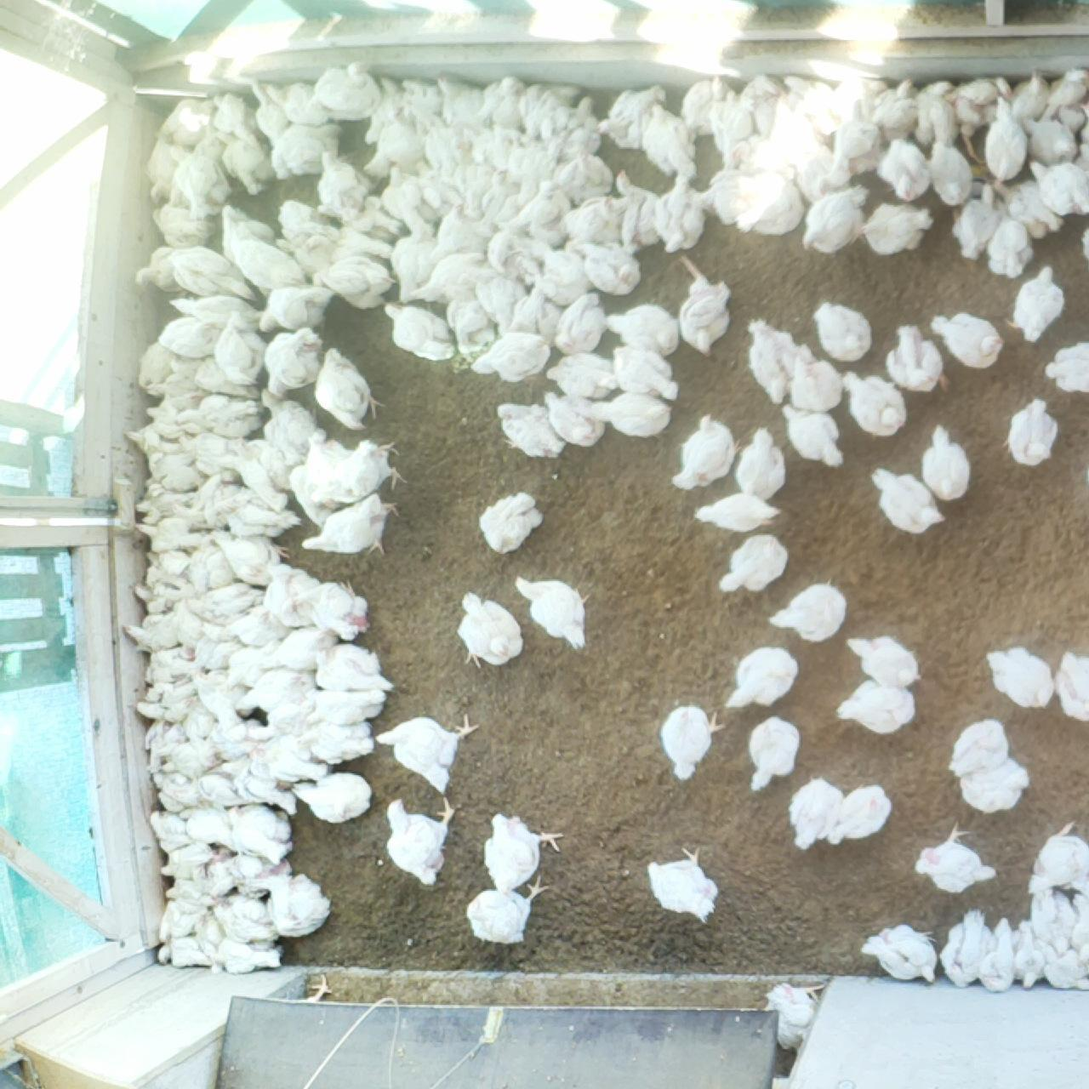chicken: (377, 716, 477, 795), (482, 809, 565, 895), (313, 437, 407, 510), (382, 794, 455, 886), (466, 874, 558, 947), (300, 493, 400, 559), (676, 253, 736, 358), (915, 820, 998, 894), (312, 346, 382, 432), (670, 411, 741, 493), (868, 465, 950, 535), (514, 574, 588, 651), (168, 242, 261, 303), (743, 319, 807, 406), (227, 226, 307, 295), (644, 849, 719, 922), (758, 980, 830, 1056), (801, 183, 871, 259), (289, 577, 373, 640), (457, 590, 523, 670), (224, 435, 294, 507), (884, 323, 954, 395), (597, 83, 671, 151), (725, 645, 800, 712), (1006, 266, 1067, 348), (578, 391, 680, 440), (258, 386, 322, 464), (360, 103, 428, 176), (941, 908, 1002, 989), (835, 678, 919, 736), (1025, 821, 1089, 897), (767, 583, 848, 643), (861, 923, 938, 985), (982, 644, 1053, 711), (840, 369, 907, 440), (263, 326, 328, 399), (258, 872, 331, 937), (406, 250, 490, 306), (660, 701, 718, 781), (611, 167, 666, 251), (786, 775, 844, 854), (212, 307, 269, 386), (211, 533, 291, 589), (652, 171, 707, 252), (931, 311, 1005, 371), (291, 770, 373, 824), (737, 172, 804, 238), (258, 624, 341, 677), (920, 423, 973, 506), (641, 101, 698, 178), (746, 718, 802, 796), (718, 533, 787, 596), (313, 257, 393, 311), (1001, 395, 1060, 468), (213, 492, 299, 542), (780, 402, 847, 466), (225, 802, 293, 865), (945, 718, 1012, 781), (958, 756, 1032, 813), (610, 343, 681, 402), (860, 203, 939, 256), (385, 303, 457, 361), (496, 402, 568, 460), (313, 61, 379, 124), (313, 147, 369, 221), (829, 96, 882, 174), (707, 90, 759, 169), (678, 74, 741, 139), (259, 283, 336, 336), (607, 301, 681, 356), (470, 331, 553, 380), (180, 581, 263, 630), (176, 393, 264, 439), (272, 123, 343, 180), (236, 669, 320, 717), (950, 183, 1002, 260), (180, 139, 231, 217), (789, 341, 845, 412), (479, 492, 542, 555), (690, 167, 752, 231), (829, 784, 893, 846), (847, 632, 919, 687), (814, 299, 874, 365), (533, 238, 591, 306), (313, 644, 395, 692), (734, 426, 787, 500), (249, 736, 334, 782), (992, 179, 1063, 234), (214, 132, 278, 193), (286, 457, 338, 532), (377, 160, 428, 236), (388, 223, 436, 302), (983, 97, 1028, 181), (169, 477, 240, 530), (540, 94, 596, 161), (950, 95, 1005, 163), (165, 291, 268, 327), (691, 493, 781, 534), (543, 352, 622, 398), (306, 684, 385, 730), (554, 292, 609, 358), (475, 267, 529, 334), (522, 81, 582, 141), (542, 391, 605, 448), (564, 194, 631, 247), (1026, 885, 1076, 956), (984, 212, 1036, 280), (148, 201, 217, 252), (1029, 158, 1089, 216), (928, 134, 975, 208), (795, 142, 852, 203), (578, 239, 639, 296), (977, 917, 1021, 996), (879, 140, 935, 202), (509, 179, 571, 235), (136, 245, 204, 296), (262, 563, 312, 632), (176, 431, 242, 483), (298, 719, 375, 763), (142, 134, 190, 204), (246, 704, 326, 746), (428, 203, 483, 264), (445, 292, 497, 356), (182, 539, 241, 594), (139, 338, 191, 400), (873, 76, 921, 143), (787, 77, 846, 131), (556, 152, 616, 205), (221, 203, 281, 256), (193, 353, 262, 399), (328, 225, 395, 272), (225, 605, 294, 650), (262, 81, 332, 125), (508, 287, 561, 345), (157, 96, 218, 146), (365, 77, 411, 143), (159, 316, 227, 360), (244, 80, 292, 142), (190, 670, 254, 716), (125, 420, 195, 462), (132, 514, 205, 554), (180, 801, 237, 852), (474, 167, 519, 231), (1021, 114, 1079, 163), (481, 75, 530, 133), (212, 935, 284, 974), (141, 395, 204, 439), (131, 484, 194, 528), (141, 644, 204, 688), (1008, 920, 1048, 989), (435, 75, 486, 129), (486, 221, 537, 275), (277, 198, 338, 243), (274, 230, 335, 275), (1054, 648, 1089, 726), (121, 615, 185, 657), (235, 770, 296, 814), (151, 354, 209, 400), (827, 76, 892, 117), (1010, 69, 1052, 132), (341, 194, 404, 236), (145, 449, 206, 492), (914, 76, 952, 145), (505, 250, 556, 301), (139, 548, 198, 592), (493, 177, 543, 228), (169, 603, 219, 654), (418, 113, 459, 174), (131, 582, 195, 621), (221, 644, 278, 687), (1047, 339, 1089, 397), (748, 92, 797, 140), (237, 858, 293, 900), (769, 95, 815, 146), (144, 718, 185, 775), (157, 898, 207, 944), (411, 235, 452, 291), (201, 612, 257, 653), (732, 137, 793, 174), (208, 90, 256, 137), (408, 160, 449, 215), (948, 73, 1012, 108), (443, 158, 486, 210), (559, 117, 602, 167), (207, 720, 257, 763), (156, 934, 215, 970), (169, 736, 222, 776), (147, 807, 192, 854), (160, 842, 214, 881), (200, 638, 261, 672), (401, 79, 445, 126), (476, 123, 516, 174), (151, 769, 199, 811), (163, 877, 220, 912), (190, 913, 233, 958), (1041, 952, 1089, 992), (137, 696, 195, 729), (181, 694, 220, 742), (532, 148, 570, 197), (197, 767, 242, 807), (505, 136, 545, 179), (204, 860, 247, 900), (930, 98, 963, 148), (739, 73, 786, 108), (1047, 68, 1089, 106), (1068, 888, 1089, 964), (446, 126, 479, 171), (145, 679, 209, 702), (1051, 100, 1089, 137), (222, 855, 266, 885), (1074, 122, 1089, 170), (1078, 226, 1089, 272)
